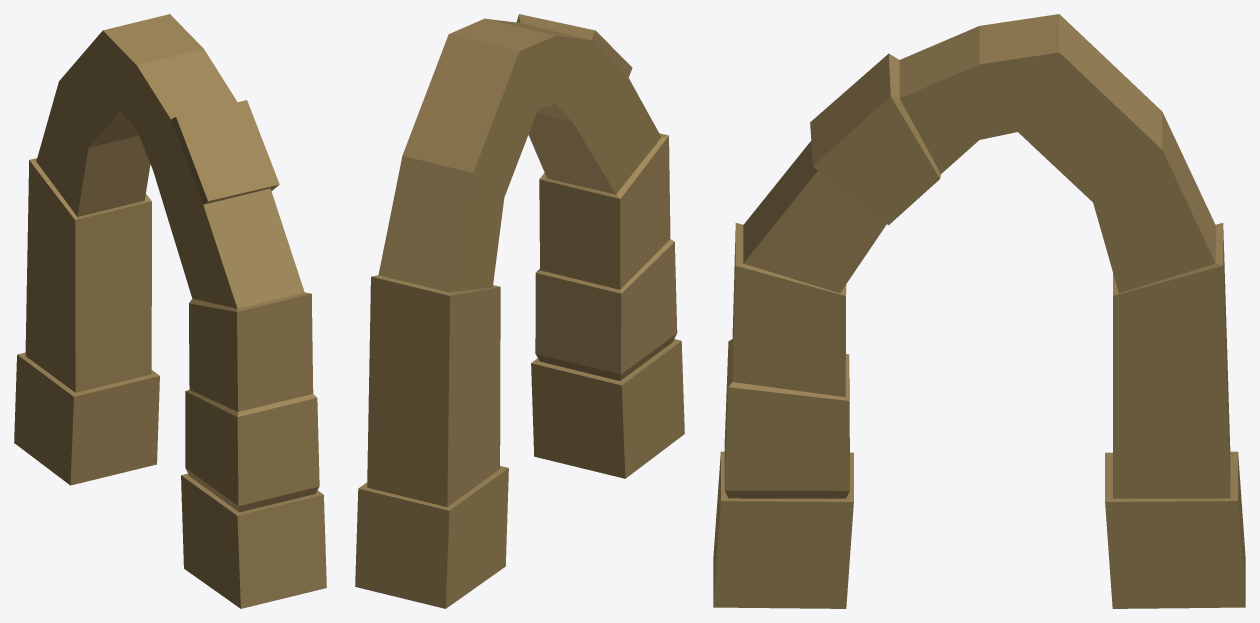
Rendered from SeaObj04.fbx.
3 renders of one model, left to right at view 1: azimuth 30°, elevation 25°; view 2: azimuth 150°, elevation 25°; view 3: azimuth 270°, elevation 25°, orthographic. The views are drawn at different scales.
Visible parts, largest first — view 1: Plane.015; view 2: Plane.015; view 3: Plane.015.
Boxes of the visible parts, bbox=[...] form: Plane.015: bbox=[14, 14, 326, 608]; Plane.015: bbox=[355, 14, 684, 608]; Plane.015: bbox=[713, 14, 1245, 608].
Size of the model in its own units: 141 by 729 by 638.
